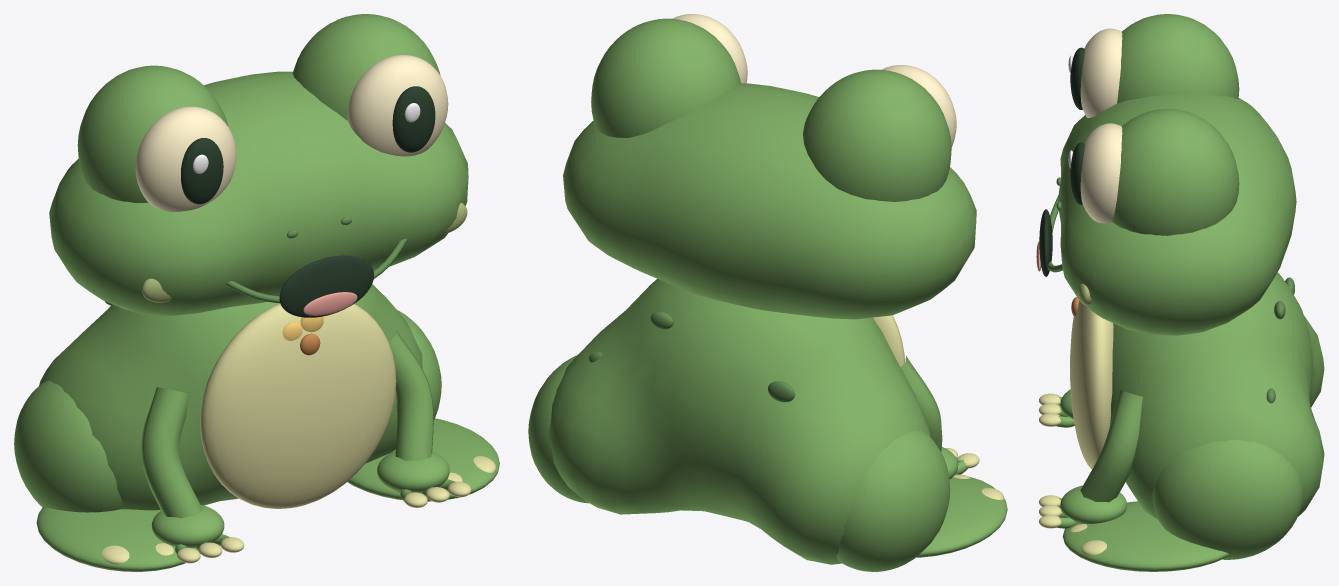
Rendered from pond-frog.glb.
3 renders of one model, left to right at view 1: azimuth 30°, elevation 25°; view 2: azimuth 150°, elevation 25°; view 3: azimuth 270°, elevation 25°, orthographic. The views are drawn at different scales.
Parts seen in each view (by area): view 1: Frog_Wide_Head, Cream_Belly, Frog_Round_Body, Eye_Mound (×2), Golden_Iris (×2), Folded_Haunch (×2), Webbed_Hind_Foot (×2), Foreleg (×2), Palm (×2), Pupil (×2), Happy_Mouth, Happy_Tongue (+1 smaller); view 2: Frog_Round_Body, Frog_Wide_Head, Eye_Mound (×2), Folded_Haunch (×2), Webbed_Hind_Foot, Golden_Iris (×2), Foreleg, Cream_Belly; view 3: Frog_Wide_Head, Frog_Round_Body, Eye_Mound (×2), Folded_Haunch, Golden_Iris (×2), Webbed_Hind_Foot, Cream_Belly, Foreleg, Palm, Pupil (×2), Happy_Mouth.
Boxes of the visible parts, box(x1,y1,x2,y2) form: Frog_Wide_Head: box(49, 71, 468, 315); Cream_Belly: box(200, 303, 396, 508); Frog_Round_Body: box(39, 284, 422, 510); Eye_Mound (×2): box(77, 14, 440, 203); Golden_Iris (×2): box(135, 55, 448, 211); Folded_Haunch (×2): box(14, 310, 441, 512); Webbed_Hind_Foot (×2): box(36, 418, 499, 571); Foreleg (×2): box(141, 330, 433, 518); Palm (×2): box(151, 451, 449, 548); Pupil (×2): box(181, 86, 435, 204); Happy_Mouth: box(279, 255, 373, 317); Happy_Tongue: box(303, 292, 357, 315); Frog_Round_Body: box(548, 279, 930, 564); Frog_Wide_Head: box(563, 83, 976, 319); Eye_Mound (×2): box(591, 18, 951, 201); Folded_Haunch (×2): box(528, 355, 950, 571); Webbed_Hind_Foot: box(916, 474, 1007, 557); Golden_Iris (×2): box(672, 14, 956, 146); Foreleg: box(900, 356, 942, 451); Cream_Belly: box(873, 315, 904, 366); Frog_Wide_Head: box(1058, 94, 1296, 335); Frog_Round_Body: box(1109, 272, 1324, 519); Eye_Mound (×2): box(1112, 14, 1239, 235); Folded_Haunch: box(1152, 439, 1302, 559); Golden_Iris (×2): box(1080, 28, 1122, 223); Webbed_Hind_Foot: box(1062, 501, 1229, 571); Cream_Belly: box(1070, 300, 1113, 469); Foreleg: box(1080, 390, 1143, 502); Palm: box(1060, 485, 1126, 524); Pupil (×2): box(1070, 47, 1084, 204); Happy_Mouth: box(1039, 209, 1052, 276).
Bounding box in the file's own units: 0.96 × 0.98 × 0.6035.
